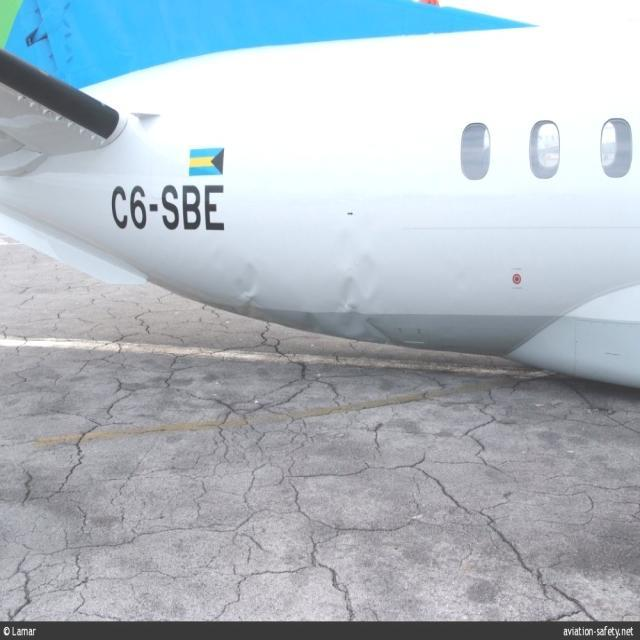dent: (301, 229, 403, 342), (233, 253, 269, 326)
